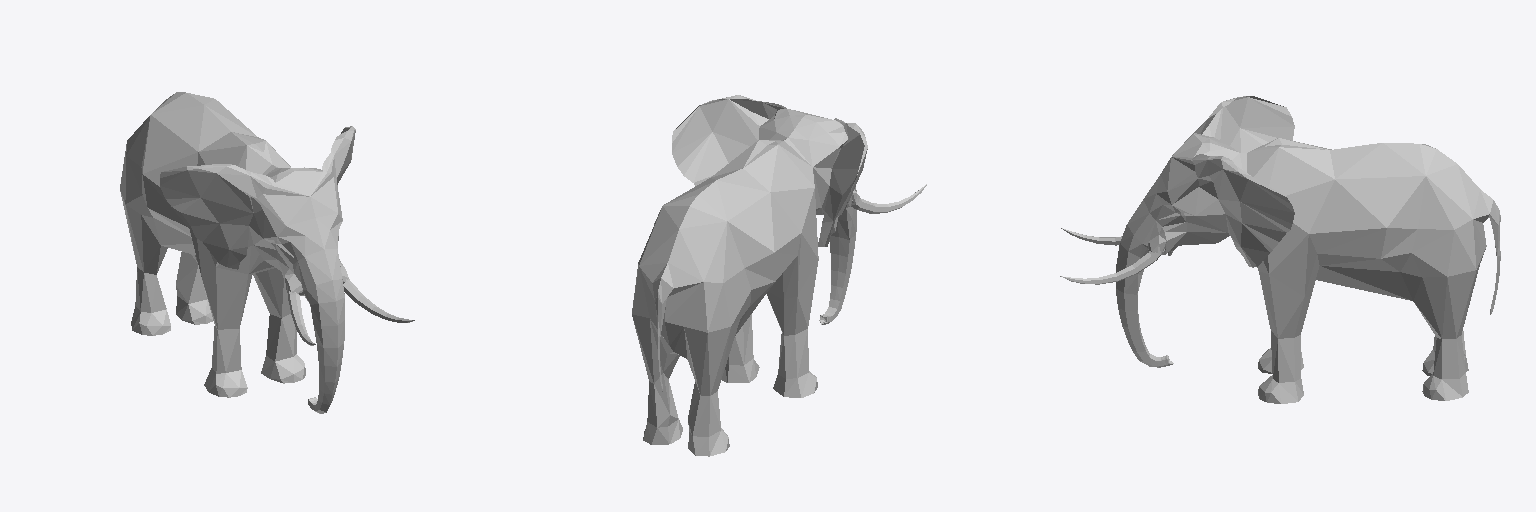
File: elephav.obj
3 views of the same model, side by side, from view 1: azimuth 30°, elevation 25°; view 2: azimuth 150°, elevation 25°; view 3: azimuth 270°, elevation 25° (orthographic).
Bounding box in the file's own units: 547 × 712 × 1135.